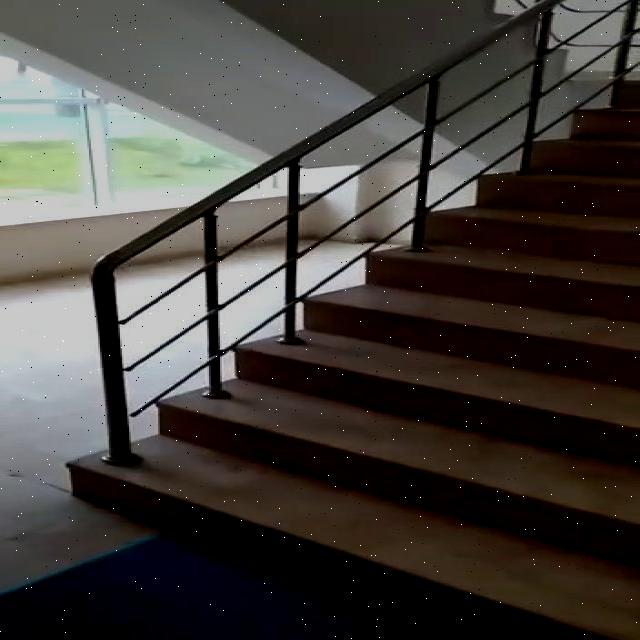stairs: (66, 77, 638, 639)
